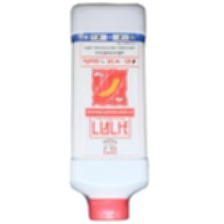insecticide: (67, 0, 153, 222)
